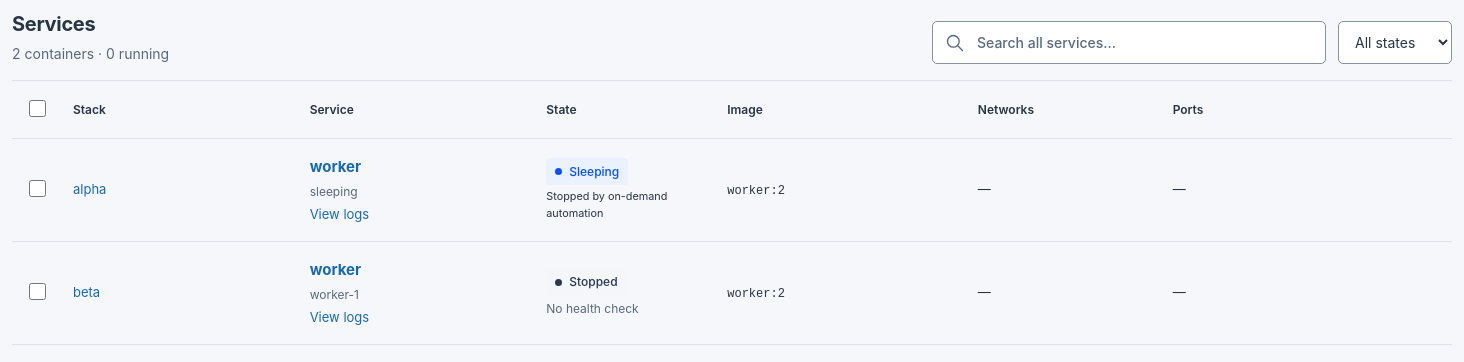
filters intentionally sleeping services separately from stopped services
Expected: the text "Sleeping" is shown, [546,158,628,185]
Select "Sleeping" in the dropdown named "Filter services state" at (1395,42), box [1338,21,1452,64]
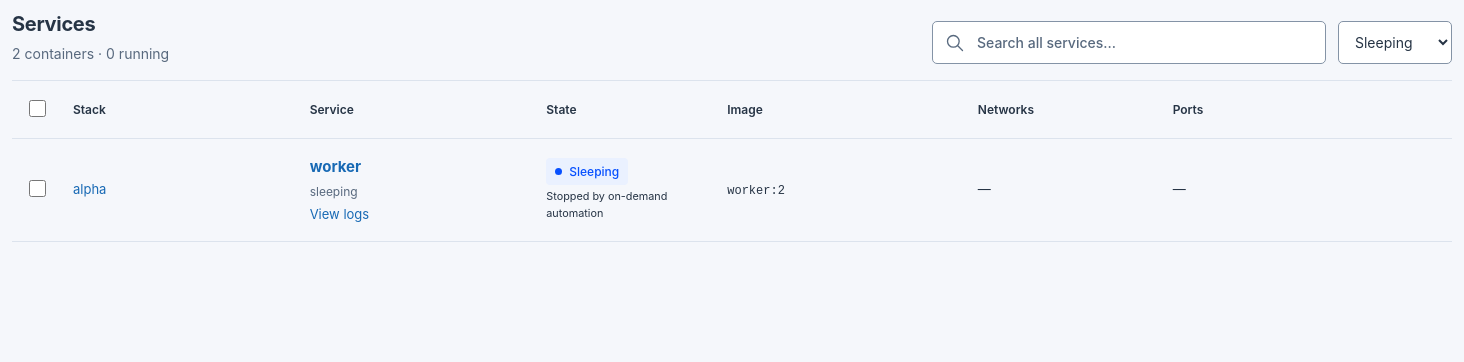
Expected: the link with aria-label "Open sleeping" is shown, [310,156,361,200]
Expected: the checkbox labelled "Open worker-1" is gone
Select "Stopped" in the dropdown named "Filter services state" at (1395,42), box [1338,21,1452,64]
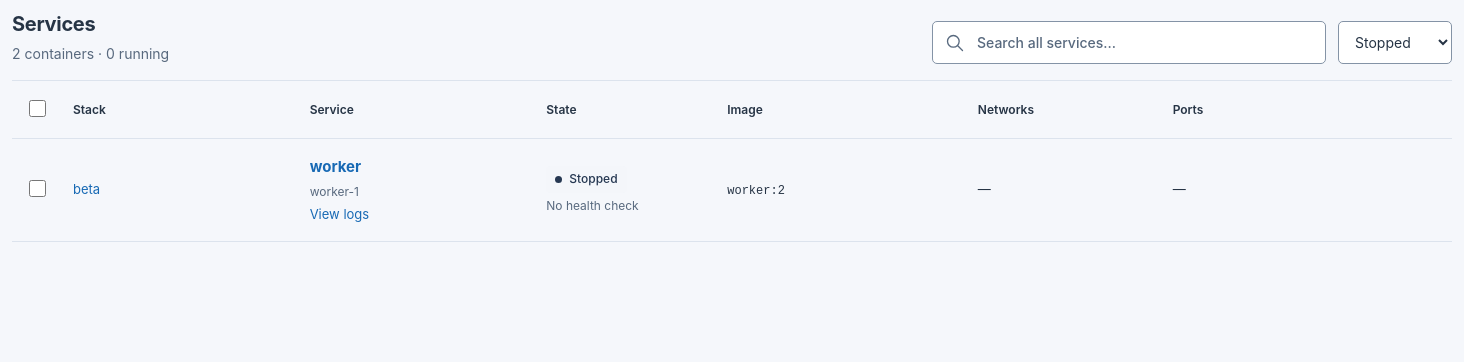
Expected: the link with aria-label "Open worker-1" is shown, [310,156,361,200]
